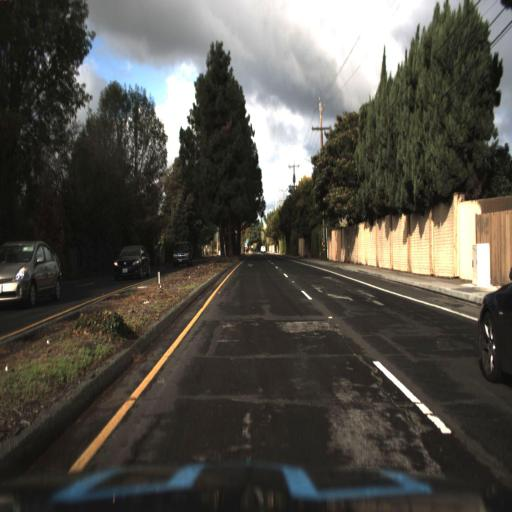car: (0, 239, 65, 310), (478, 259, 512, 387), (110, 241, 153, 283), (115, 244, 151, 277), (171, 239, 192, 265)
